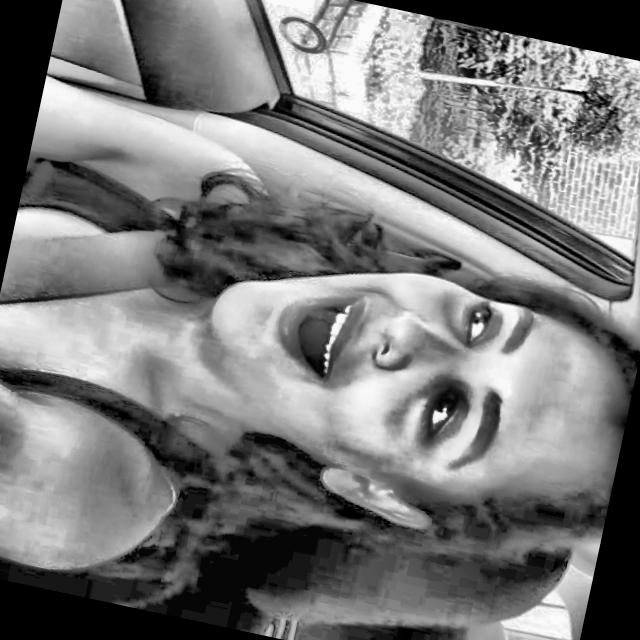open_eyes: (404, 372, 474, 456), (446, 285, 509, 359)
open_mouth: (258, 269, 369, 401)
